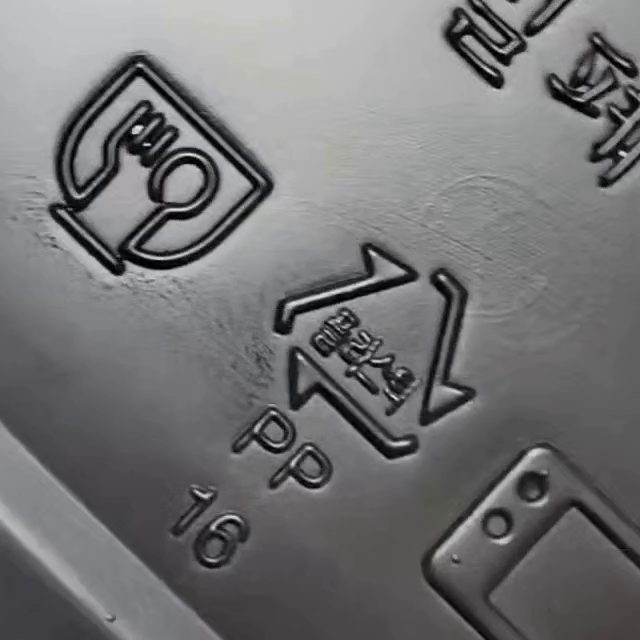Plastic: (274, 237, 474, 463)
